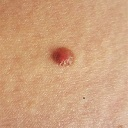Melanoma: (52, 46, 75, 66)
